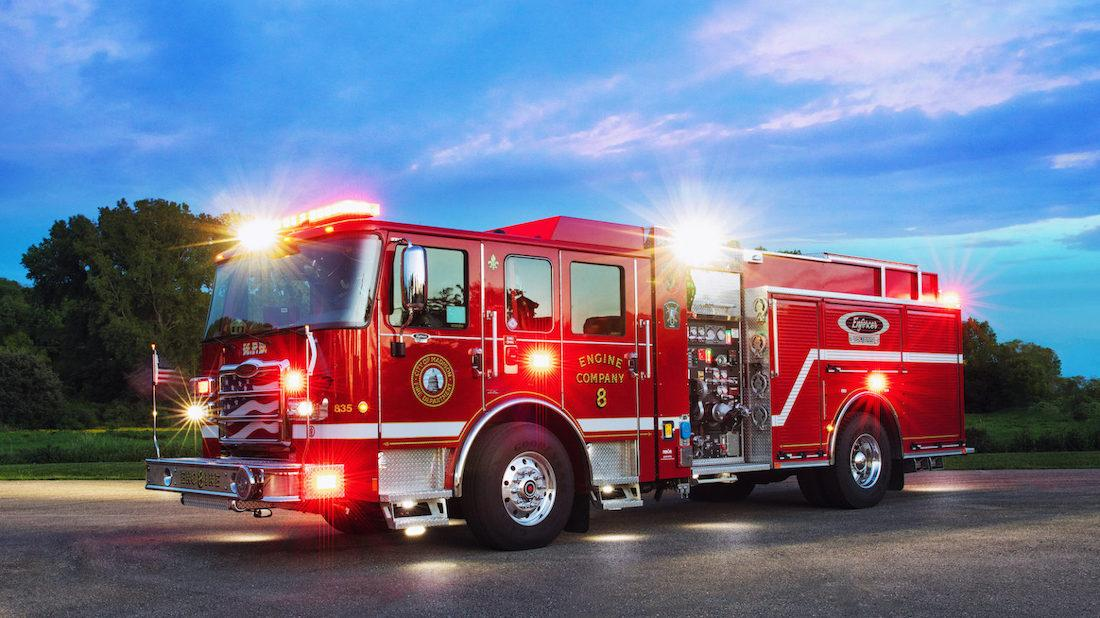firetruck_on: (145, 199, 974, 543)
